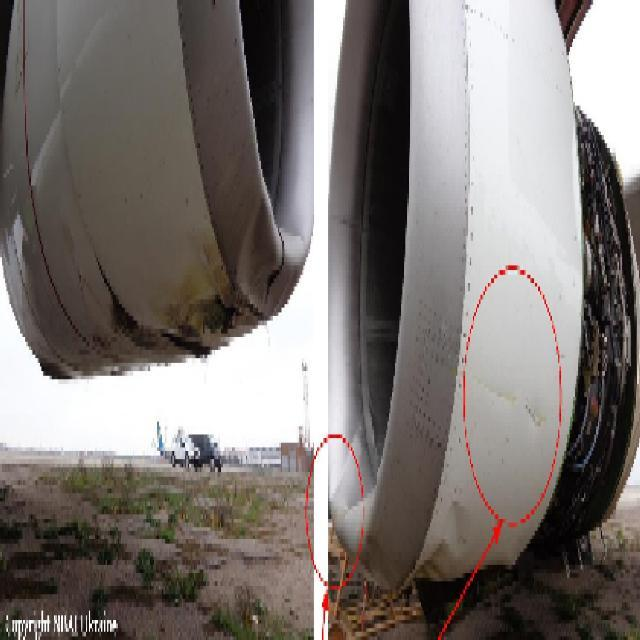crack: (523, 399, 544, 431)
dent: (417, 503, 472, 585)
